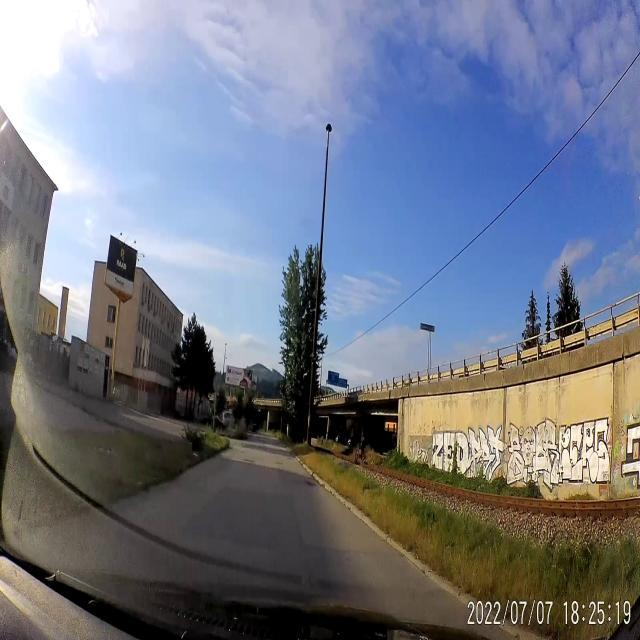Pothole: (299, 478, 316, 488)
